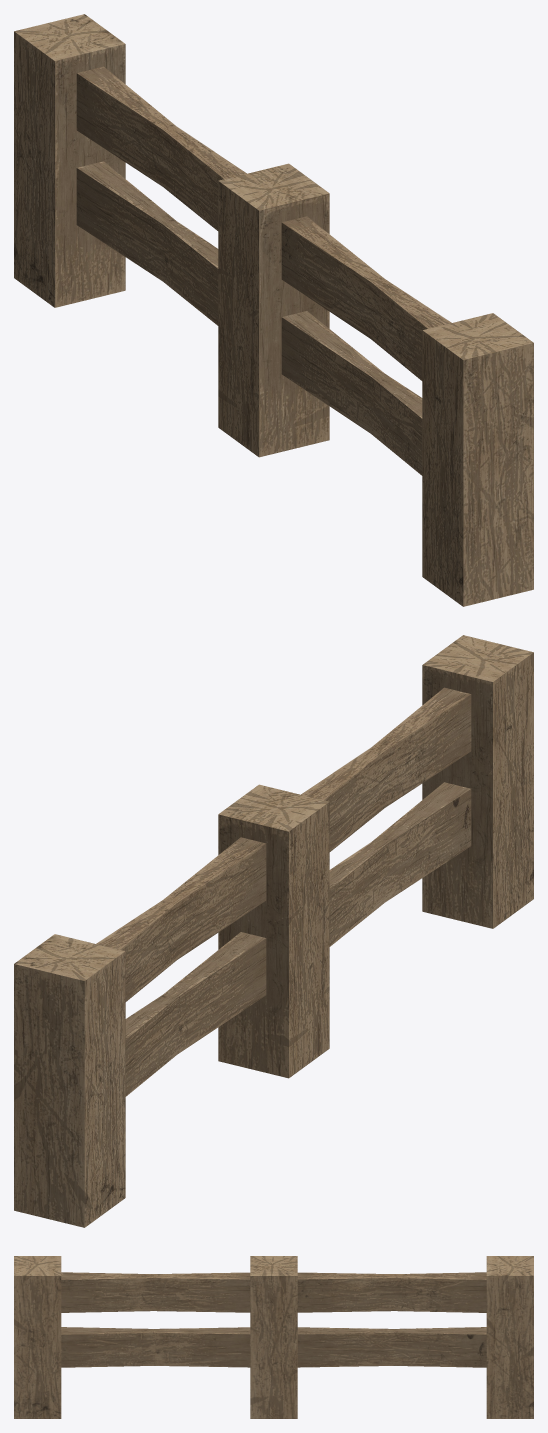
File: wooden_fence.glb
The picture shows the model from 3 angles, top to bottom: view 1: azimuth 30°, elevation 25°; view 2: azimuth 150°, elevation 25°; view 3: azimuth 270°, elevation 25°; orthographic projection. The views are drawn at different scales.
Parts seen in each view (by area): view 1: defaultMaterial; view 2: defaultMaterial; view 3: defaultMaterial.
Boxes of the visible parts, box(x1,y1,x2,y2) form: defaultMaterial: box(14, 14, 533, 606); defaultMaterial: box(14, 635, 533, 1227); defaultMaterial: box(14, 1256, 533, 1418).
Size of the model in its own units: 0.3634 by 1.21 by 4.
1 material, 1 textured.
